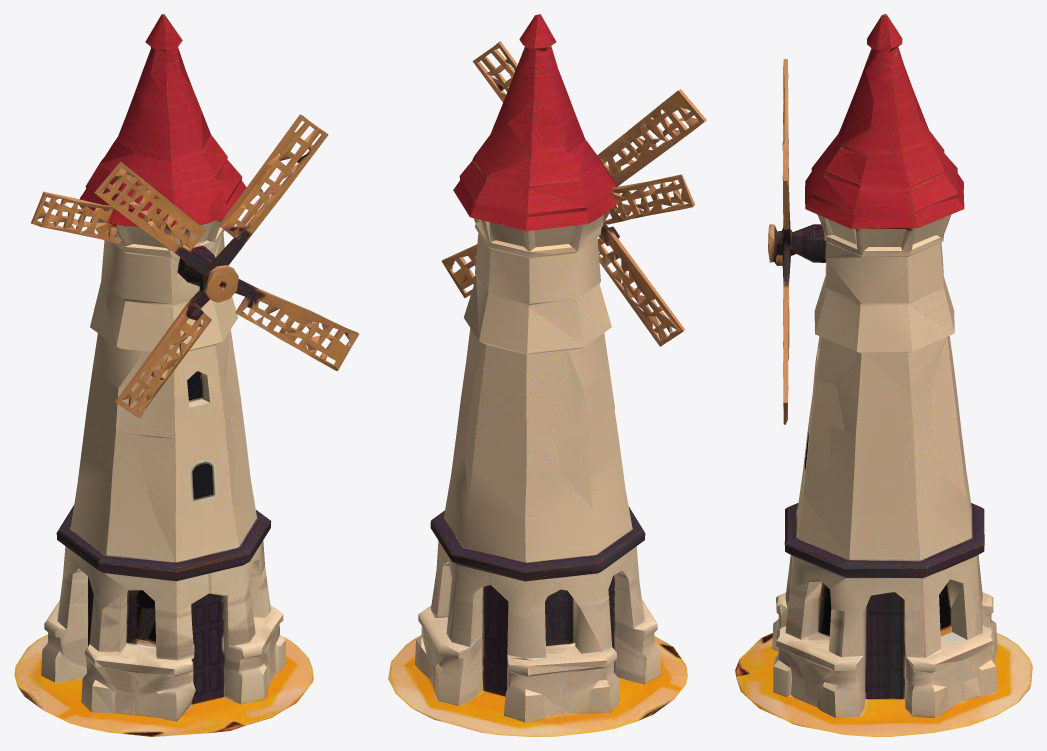
Rendered from windmill.glb.
3 views of the same model, side by side, from view 1: azimuth 30°, elevation 25°; view 2: azimuth 150°, elevation 25°; view 3: azimuth 270°, elevation 25° (orthographic).
Size of the model in its own units: 0.8705 by 1.9 by 0.7757.
Materials: 1 (1 with a texture image).
